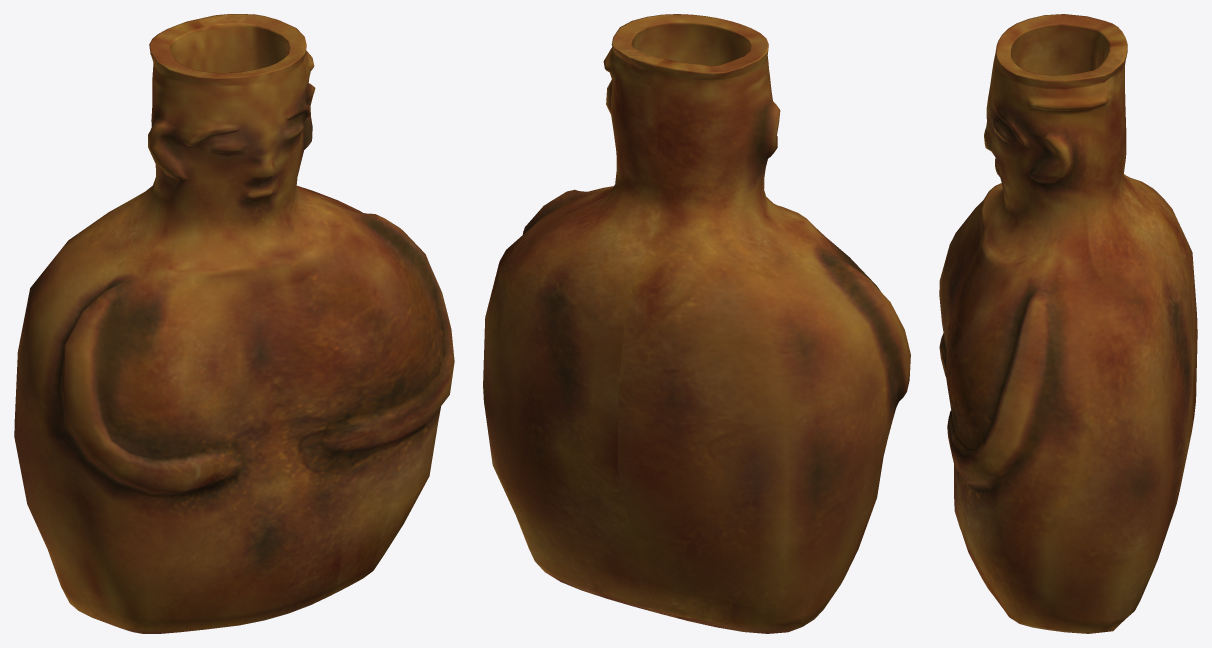
The model's file is jarra.fbx.
3 renders of one model, left to right at view 1: azimuth 30°, elevation 25°; view 2: azimuth 150°, elevation 25°; view 3: azimuth 270°, elevation 25°, orthographic. The views are drawn at different scales.
Visible parts, largest first — view 1: baston1:jarra; view 2: baston1:jarra; view 3: baston1:jarra.
Boxes of the visible parts, x1,y1,x2,y2 form: baston1:jarra: (14,14,454,633); baston1:jarra: (483,14,910,633); baston1:jarra: (939,14,1197,633).
Size of the model in its own units: 6.64 by 9.08 by 3.96.
